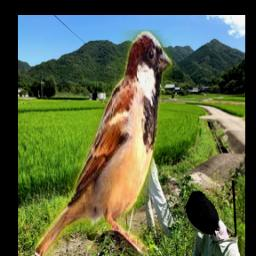Sparrow: (36, 31, 173, 256)
